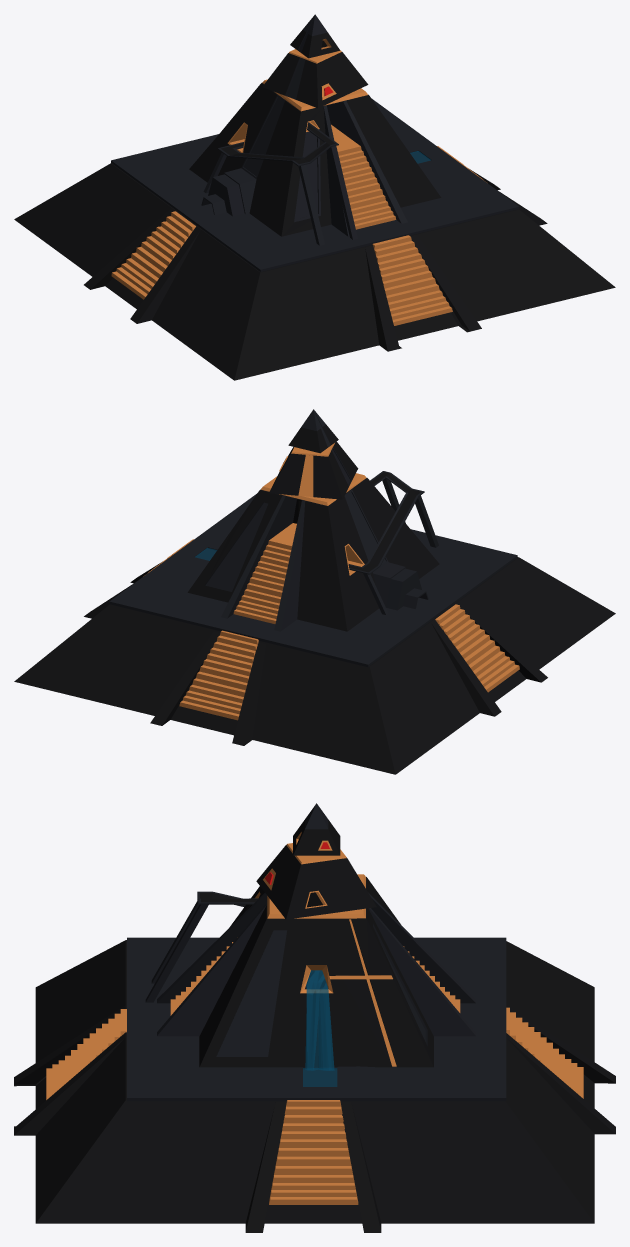
Rendered from pyramid_complete.FBX.
3 views of the same model, one above another, from view 1: azimuth 30°, elevation 25°; view 2: azimuth 150°, elevation 25°; view 3: azimuth 270°, elevation 25° (orthographic). The views are drawn at different scales.
Parts seen in each view (by area): view 1: pyramid_complete; view 2: pyramid_complete; view 3: pyramid_complete.
Boxes of the visible parts, x1,y1,x2,y2 form: pyramid_complete: [14, 14, 615, 380]; pyramid_complete: [14, 409, 615, 774]; pyramid_complete: [14, 803, 615, 1232].
Size of the model in its own units: 3270 by 1815 by 3268.
